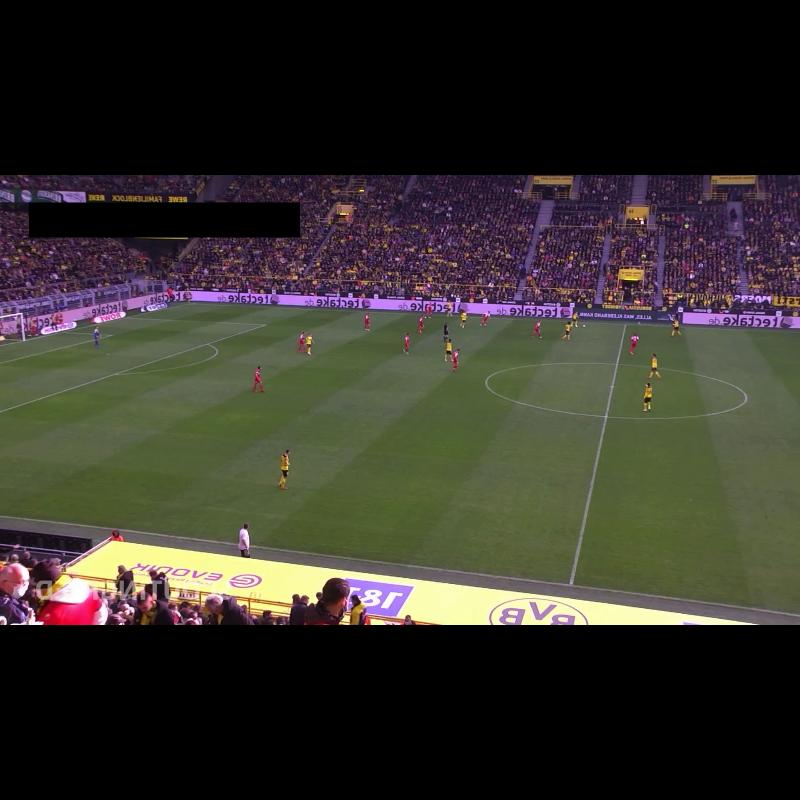cross_recipient_zone: (0, 318, 269, 411)
crossing_player_zone: (127, 303, 379, 327), (0, 426, 96, 483)
pitch: (0, 303, 800, 615)
